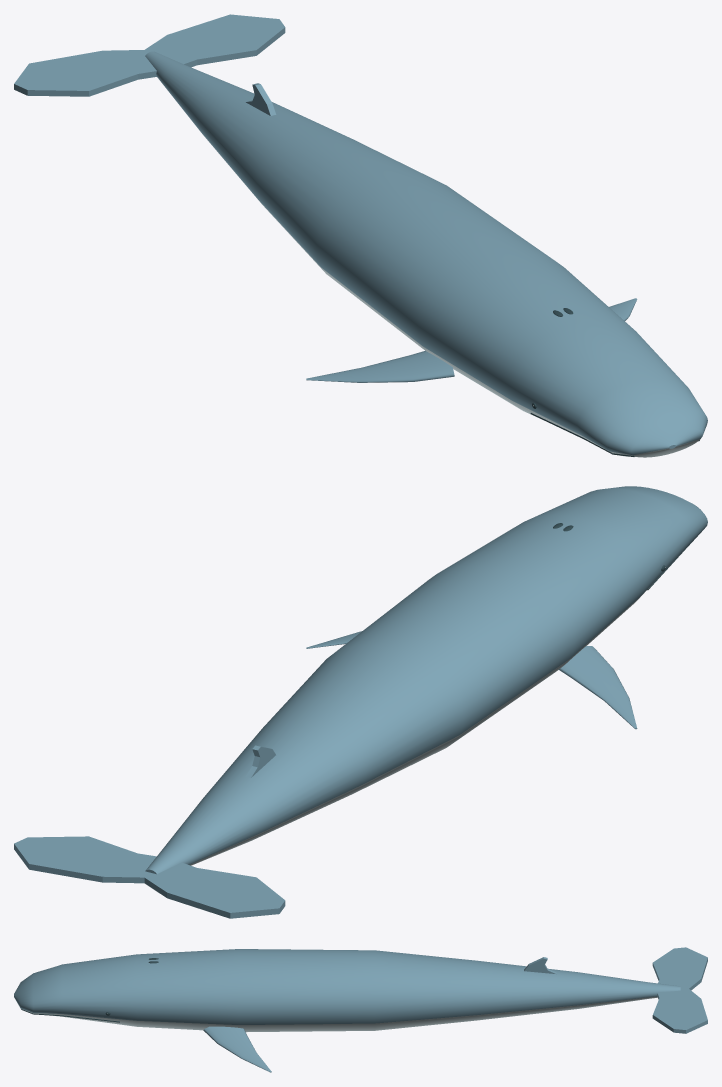
The model's file is whale_blue.glb.
3 views of the same model, one above another, from view 1: azimuth 30°, elevation 25°; view 2: azimuth 150°, elevation 25°; view 3: azimuth 270°, elevation 25° (orthographic). The views are drawn at different scales.
Visible parts, largest first — view 1: Blue whale continuous body, Blue whale horizontal tail flukes, Blue whale pectoral fin -1; view 2: Blue whale continuous body, Blue whale horizontal tail flukes, Blue whale pectoral fin -1; view 3: Blue whale continuous body, Blue whale horizontal tail flukes, Blue whale pectoral fin 1, Blue whale small dorsal fin.
Part boxes in pixels (x1,y1,x2,y2): Blue whale continuous body: [145, 51, 707, 457]; Blue whale horizontal tail flukes: [14, 14, 285, 96]; Blue whale pectoral fin -1: [306, 350, 454, 382]; Blue whale continuous body: [145, 486, 707, 874]; Blue whale horizontal tail flukes: [14, 836, 285, 918]; Blue whale pectoral fin -1: [559, 646, 637, 729]; Blue whale continuous body: [14, 949, 680, 1032]; Blue whale horizontal tail flukes: [652, 947, 707, 1033]; Blue whale pectoral fin 1: [203, 1026, 271, 1072]; Blue whale small dorsal fin: [524, 957, 556, 973].
Bounding box in the file's own units: 7.19 × 2.2 × 20.42.
